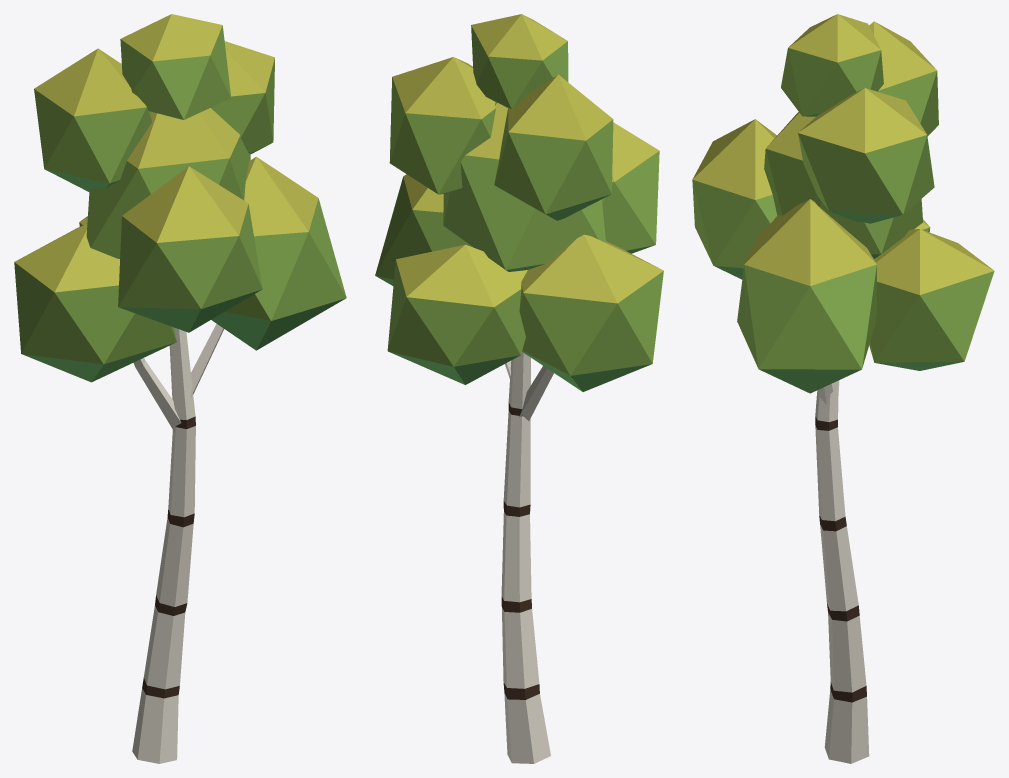
Rendered from tree_birch.glb.
3 renders of one model, left to right at view 1: azimuth 30°, elevation 25°; view 2: azimuth 150°, elevation 25°; view 3: azimuth 270°, elevation 25°, orthographic.
Parts seen in each view (by area): view 1: Canopy, Trunk; view 2: Canopy, Trunk; view 3: Canopy, Trunk.
Boxes of the visible parts, x1=… form: Canopy: x1=14, y1=14, x2=346, y2=382; Trunk: x1=132, y1=323, x2=223, y2=763; Canopy: x1=375, y1=14, x2=663, y2=391; Trunk: x1=501, y1=352, x2=553, y2=763; Canopy: x1=692, y1=14, x2=994, y2=393; Trunk: x1=815, y1=380, x2=869, y2=763.
Bounding box in the file's own units: 3.51 × 9.01 × 3.31.
